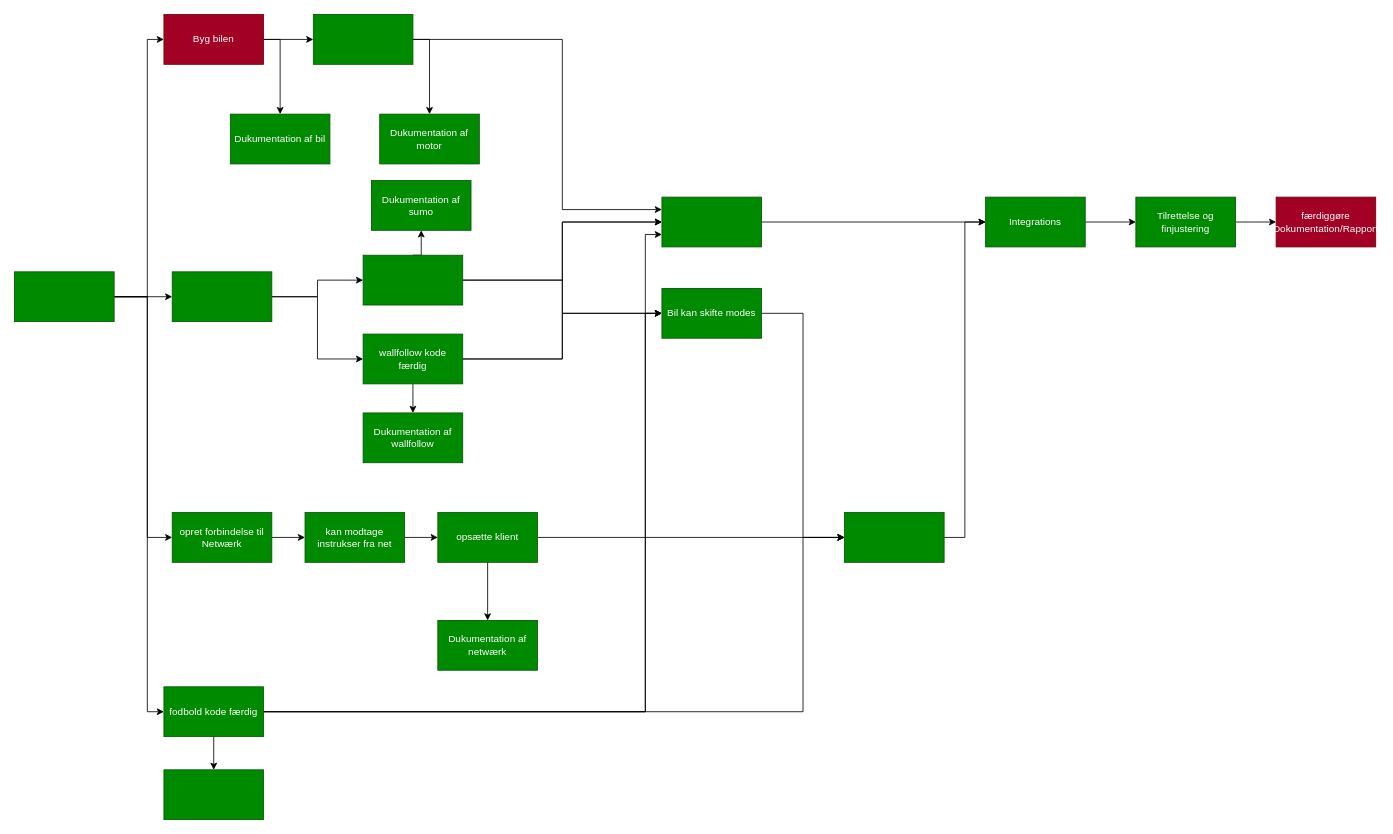
The diagram is 1393 pixels wide and 834 high, and some of its shapes have lost their labels. The shapes that lost their labels are listed below. From the top down, each one's box as (x1, y1, x2, y2) in pixels, then its label:
(312, 14, 413, 64): kode motoren
(661, 196, 762, 247): kørelogik
(14, 271, 114, 322): Planlægning
(171, 271, 272, 322): programmere sensor/målings håndtering
(362, 254, 463, 305): sumo kode færdig
(844, 512, 944, 562): håndtere input
(163, 769, 264, 820): dokumentation af fodbold
